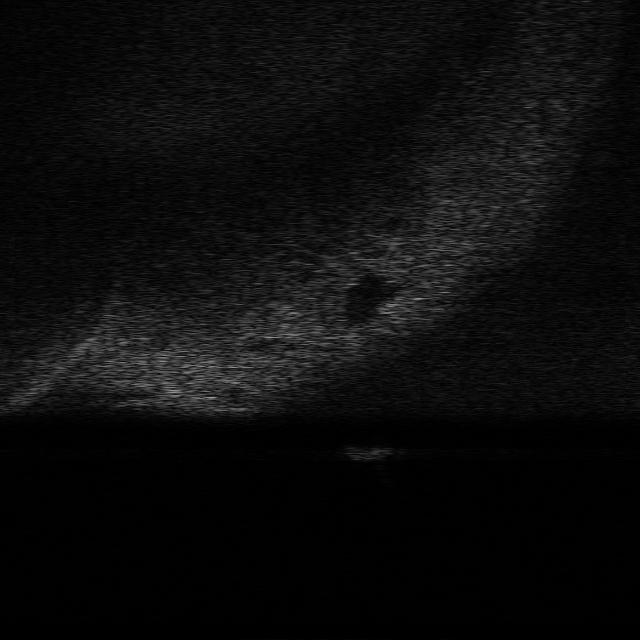cube: (345, 440, 395, 464)
